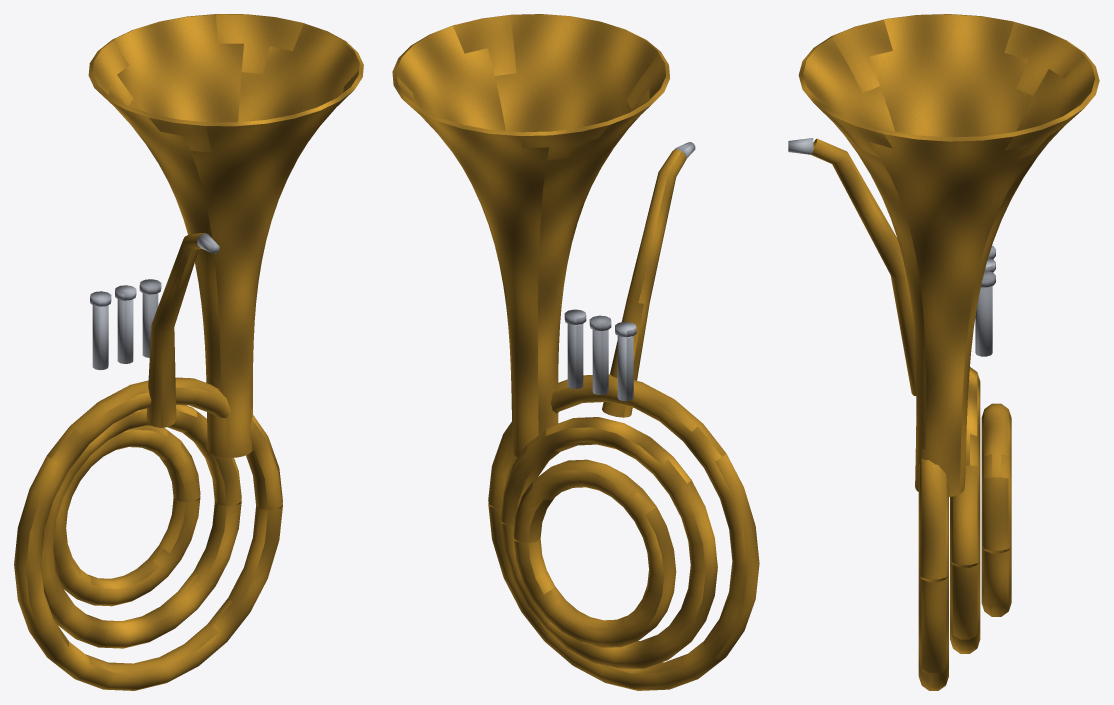
Rendered from banda_tuba.obj.
The picture shows the model from 3 angles, left to right: view 1: azimuth 30°, elevation 25°; view 2: azimuth 150°, elevation 25°; view 3: azimuth 270°, elevation 25°; orthographic projection. The views are drawn at different scales.
Parts seen in each view (by area): view 1: banda_tuba; view 2: banda_tuba; view 3: banda_tuba.
Part boxes in pixels (left/top/right/bottom): banda_tuba: left=14, top=14, right=363, bottom=690; banda_tuba: left=392, top=14, right=759, bottom=690; banda_tuba: left=788, top=14, right=1099, bottom=690.
Size of the model in its own units: 0.6758 by 1.14 by 0.4963.
2 materials, 2 textured.
